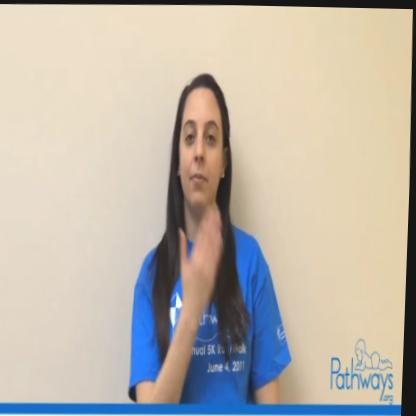ThankYou: (135, 50, 263, 308)
